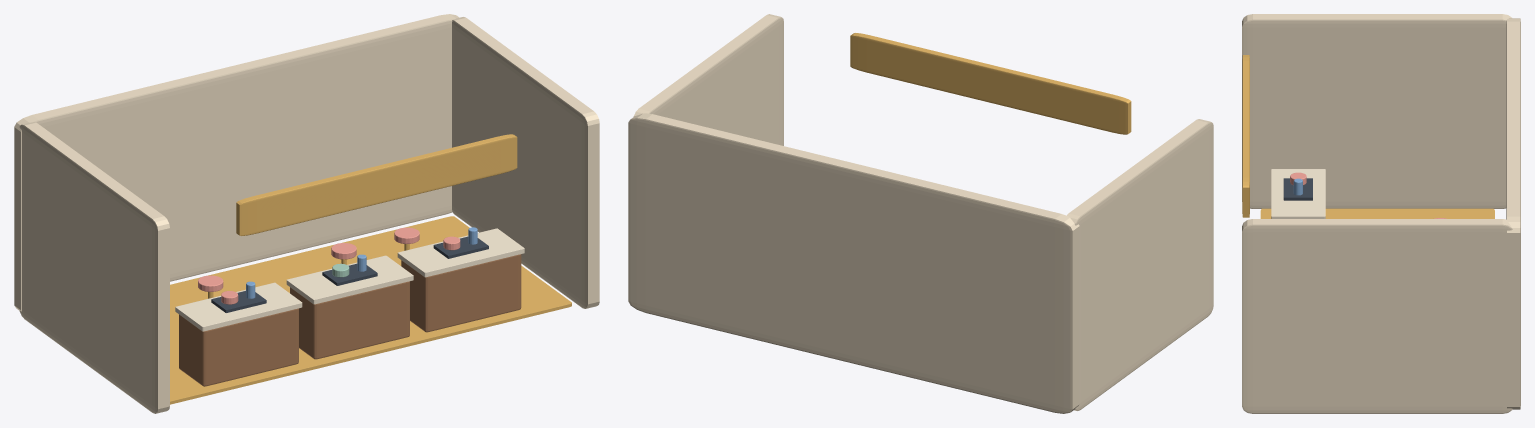
Rendered from food_hall.glb.
3 views of the same model, side by side, from view 1: azimuth 30°, elevation 25°; view 2: azimuth 150°, elevation 25°; view 3: azimuth 270°, elevation 25° (orthographic). The views are drawn at different scales.
Visible parts, largest first — view 1: food_hall_back, food_hall_left, food_hall_right, food_hall_floor, food_hall_sign, Food_Stall_1, Food_Stall_3, Food_Stall_2, Food_Stall_Top_2, Food_Stall_Top_3, Food_Stall_Top_1, Food_Tray_2 (+2 smaller); view 2: food_hall_back, food_hall_left, food_hall_sign, food_hall_right; view 3: food_hall_right, food_hall_left, food_hall_back, Food_Stall_Top_1, food_hall_floor, food_hall_sign, Food_Tray_1.
Part boxes in pixels (x1,y1,x2,y2): food_hall_back: [14, 14, 458, 311]; food_hall_left: [19, 122, 169, 413]; food_hall_right: [452, 17, 599, 308]; food_hall_floor: [170, 216, 571, 404]; food_hall_sign: [236, 134, 517, 235]; Food_Stall_1: [179, 308, 298, 386]; Food_Stall_3: [401, 254, 521, 332]; Food_Stall_2: [290, 281, 409, 359]; Food_Stall_Top_2: [286, 255, 413, 304]; Food_Stall_Top_3: [397, 228, 524, 277]; Food_Stall_Top_1: [175, 282, 302, 331]; Food_Tray_2: [322, 263, 377, 285]; food_hall_back: [628, 113, 1079, 413]; food_hall_left: [1067, 119, 1213, 410]; food_hall_sign: [850, 33, 1131, 134]; food_hall_right: [633, 14, 783, 145]; food_hall_right: [1242, 219, 1512, 413]; food_hall_left: [1242, 14, 1511, 208]; food_hall_back: [1506, 18, 1520, 409]; Food_Stall_Top_1: [1271, 169, 1325, 218]; food_hall_floor: [1260, 208, 1494, 218]; food_hall_sign: [1242, 55, 1249, 217]; Food_Tray_1: [1283, 178, 1312, 200].
Bounding box in the file's own units: 12 × 5 × 6.67.
